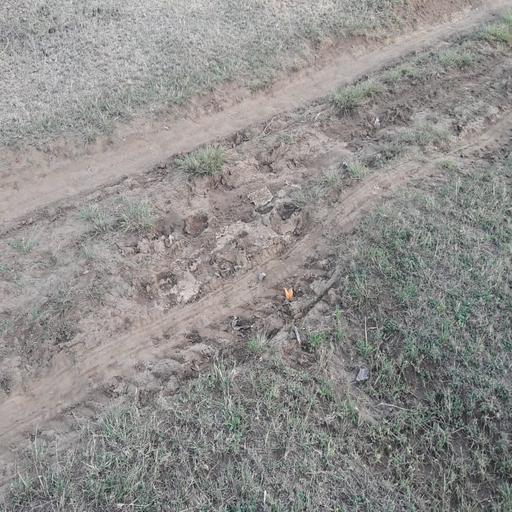vehicle_track: (0, 105, 512, 450), (0, 0, 512, 227)
